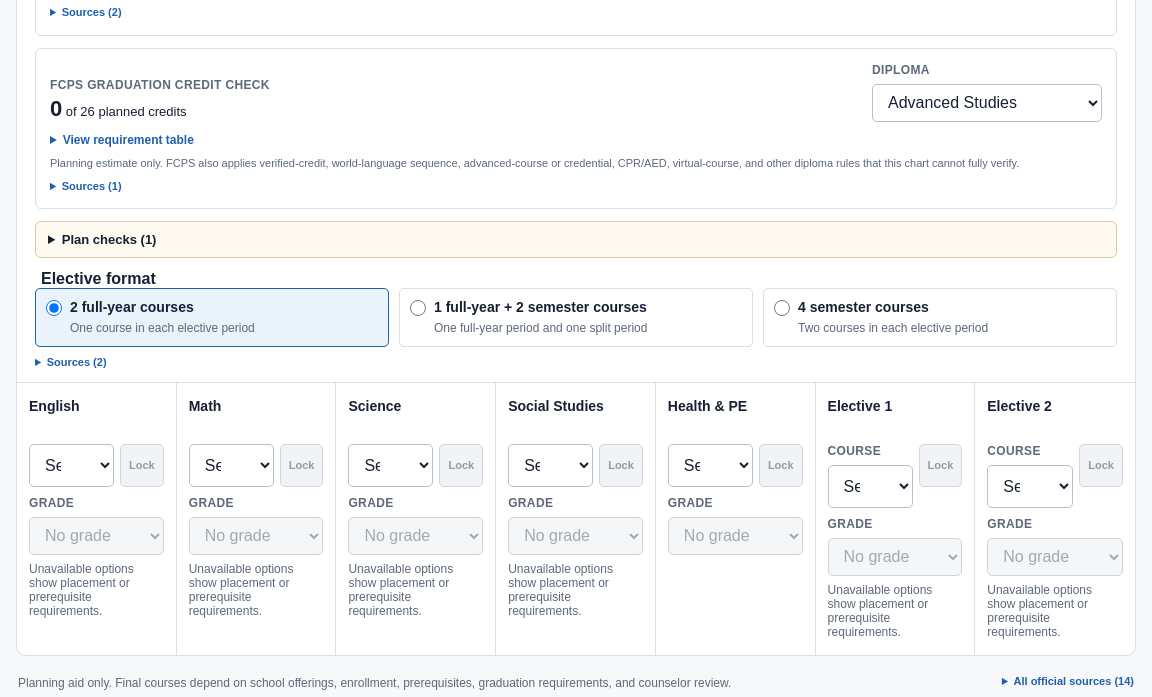
Scenario: autofill and course locks › keeps a locked course and preserves the selected elective format
This screenshot has width=1152, height=697.
(page scrolled)
Select "English 7" in the dropdown named "Choose English for grade 7" below "English" at (72, 465), box [29,444,114,487]
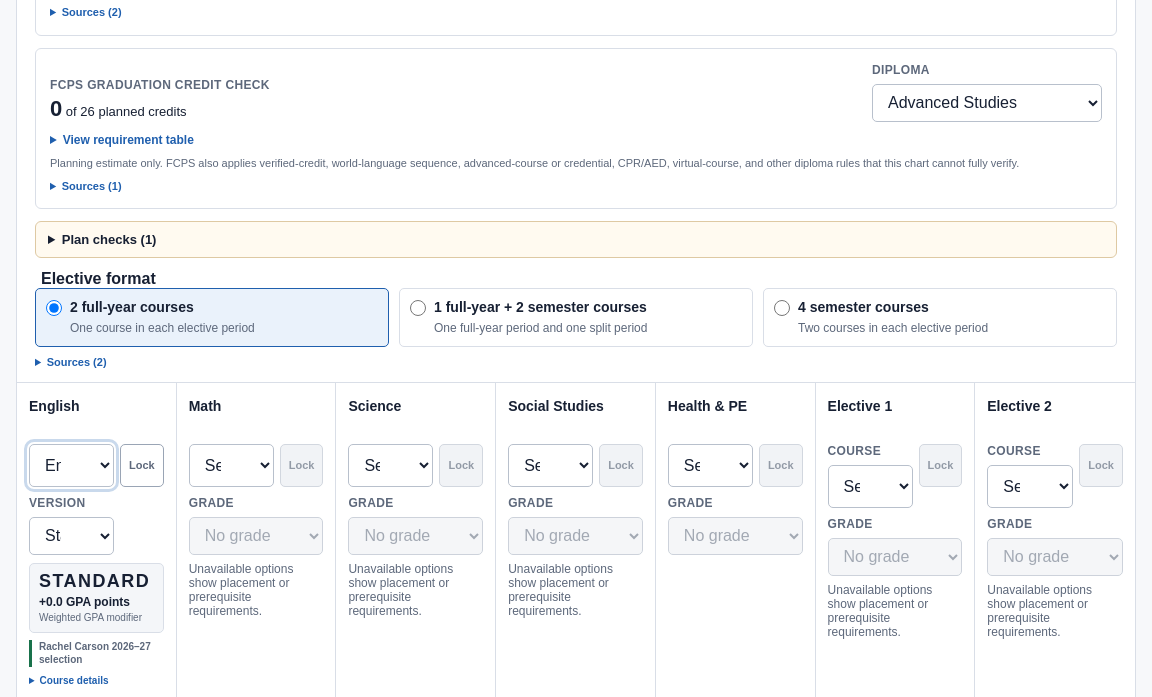
Select "AAP Center" in the dropdown labelled "Version" at (72, 536), box [29,517,114,555]
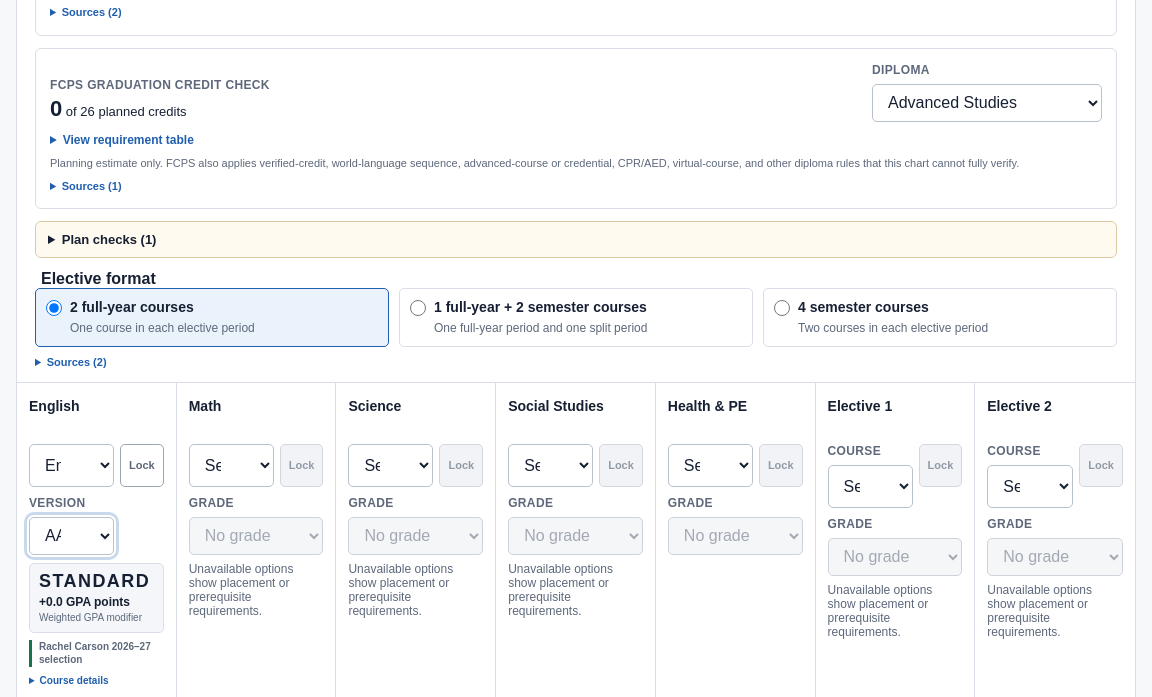
Click the button with aria-label "Lock English for grade 7" at (142, 465), box [120,444,164,487]
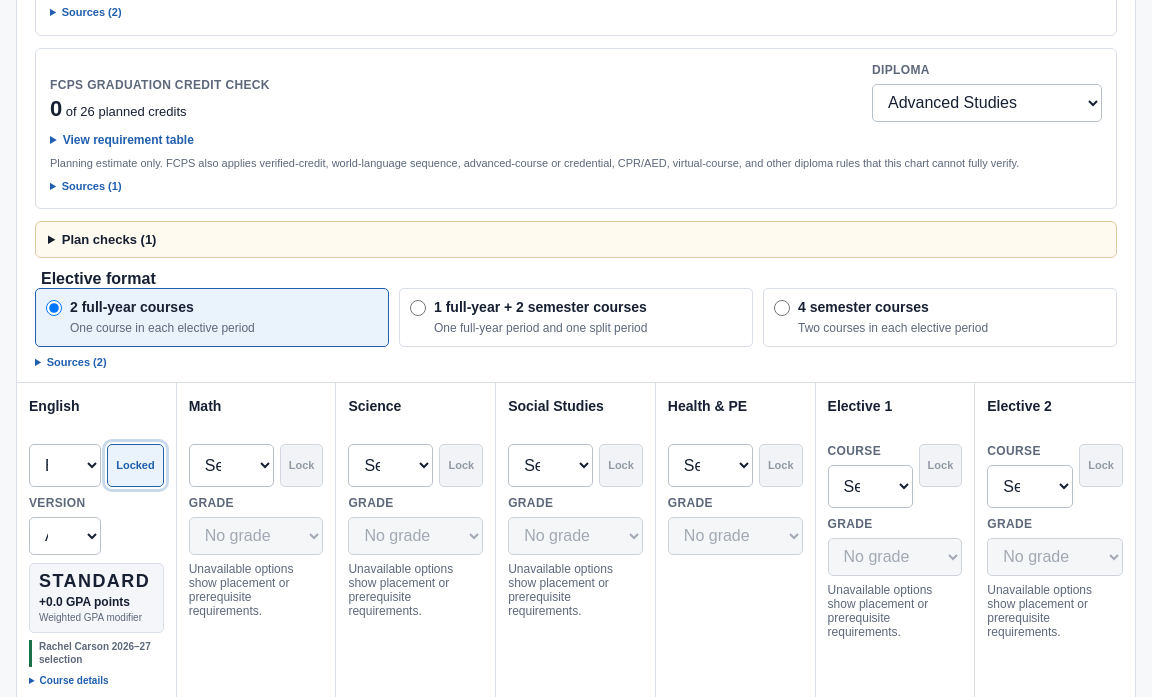
Click the radio button labelled "1 full-year + 2 semester courses" at (418, 308), box [410,300,426,316]
(page scrolled)
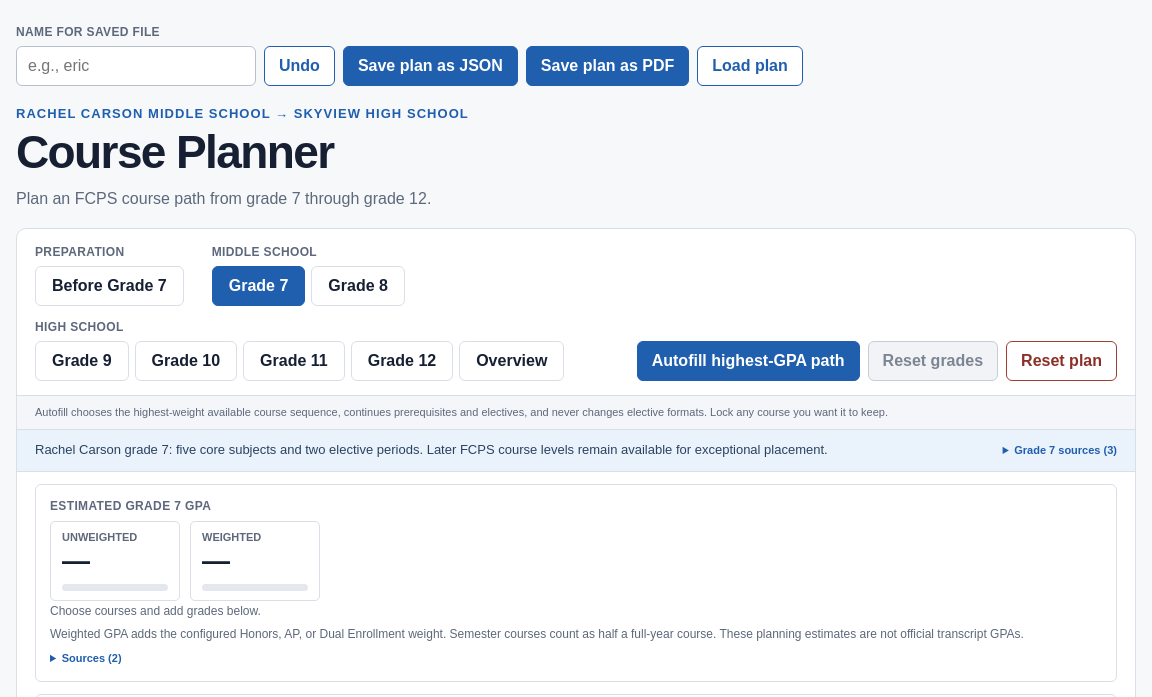
Click the button "Autofill highest-GPA path" at (748, 361), box [637,341,860,381]
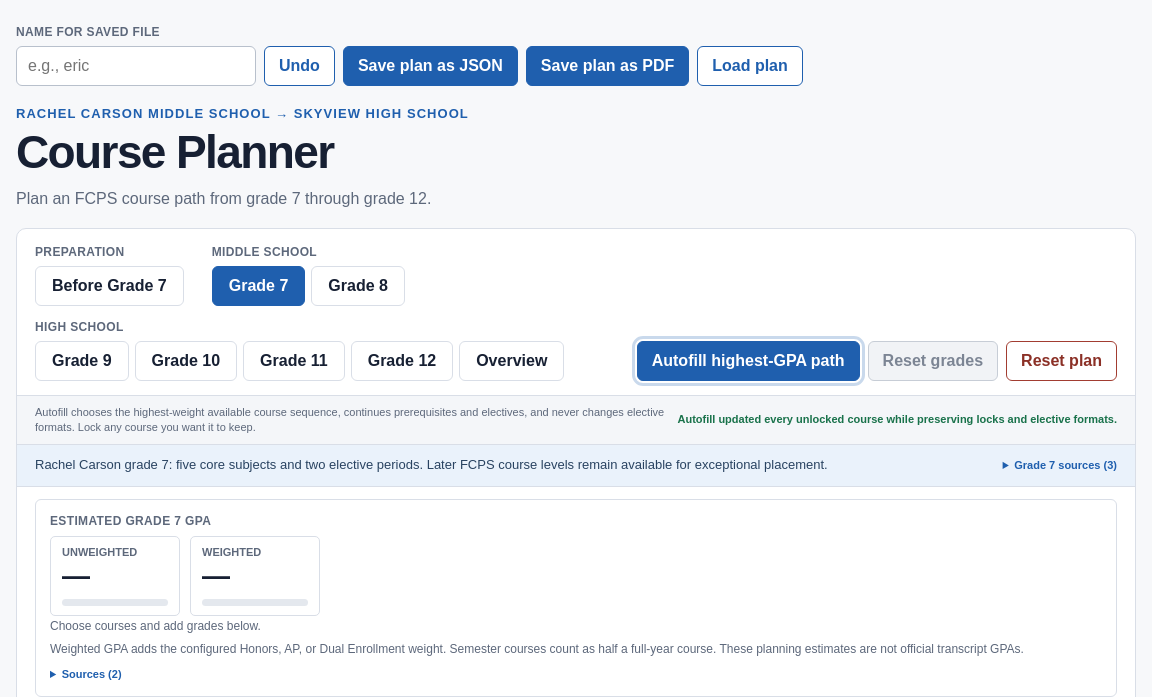
Now the message shows "preserving locks and elective formats", box [678,413,1117,425]
